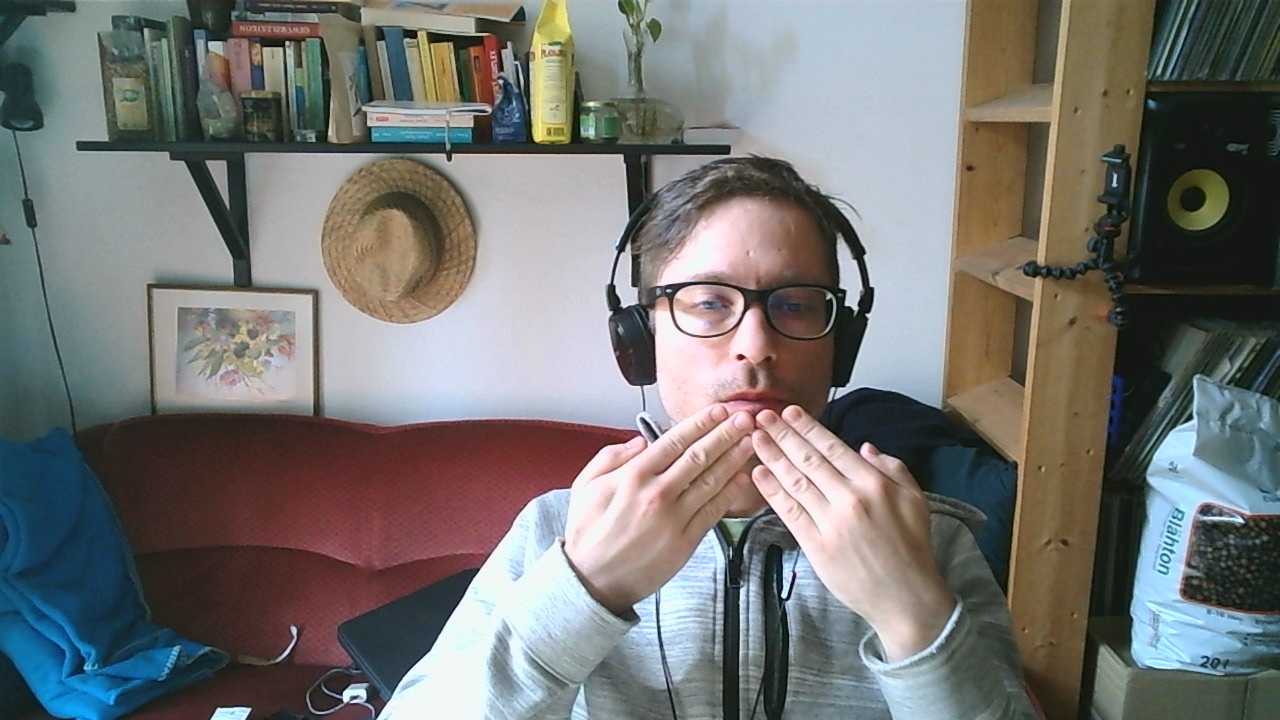thanks: (562, 403, 941, 634)
